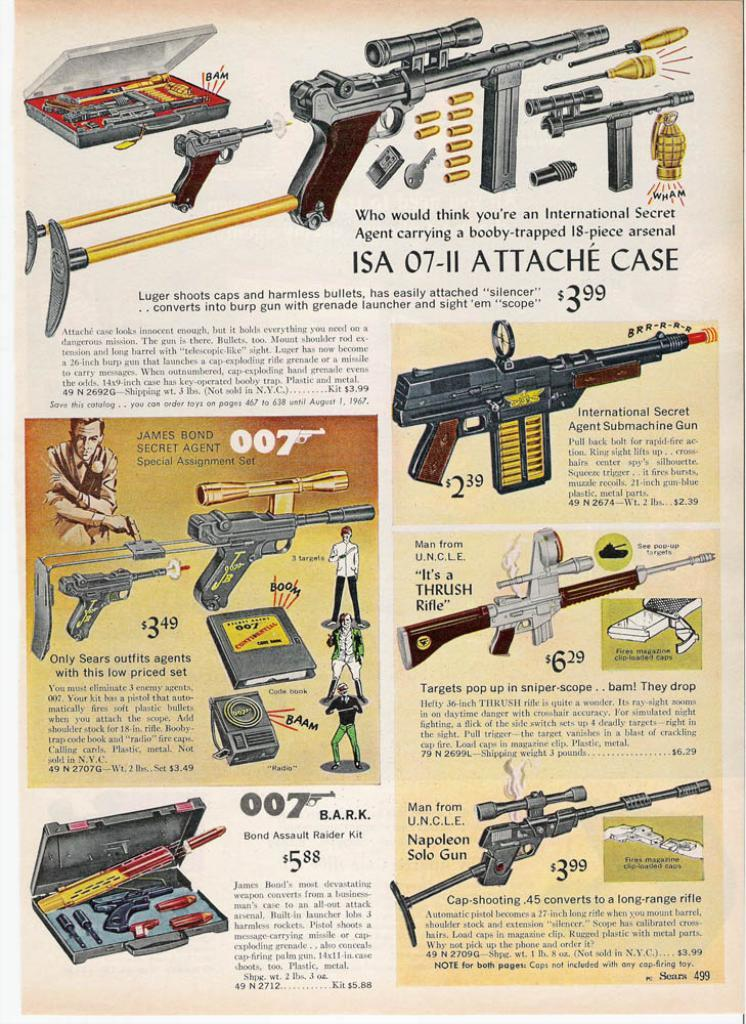Rifle: (278, 10, 610, 237), (395, 306, 704, 505), (182, 461, 383, 613), (519, 81, 698, 198)
